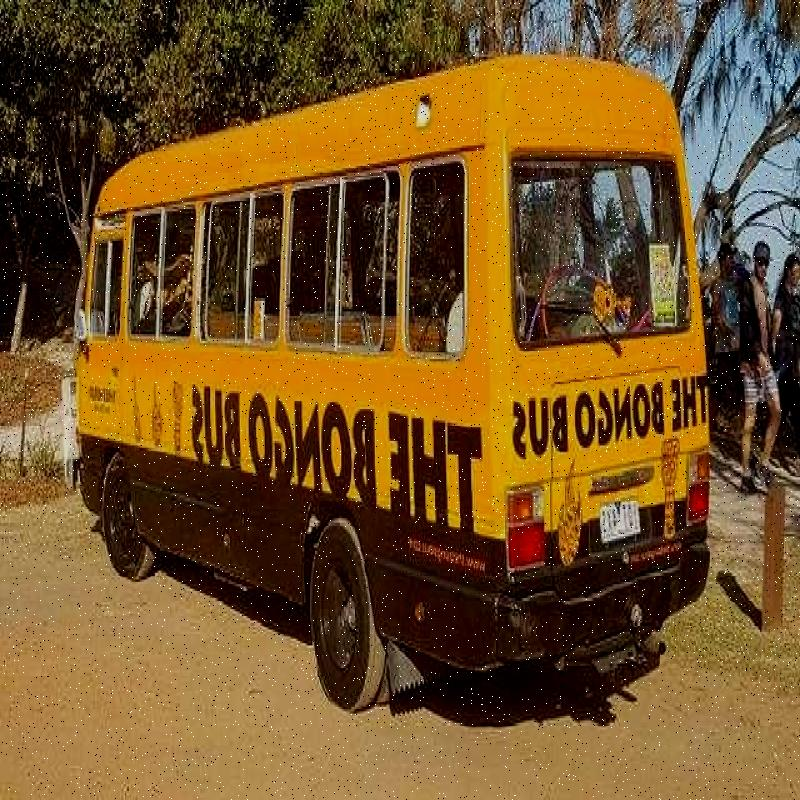bus: (54, 23, 717, 714)
